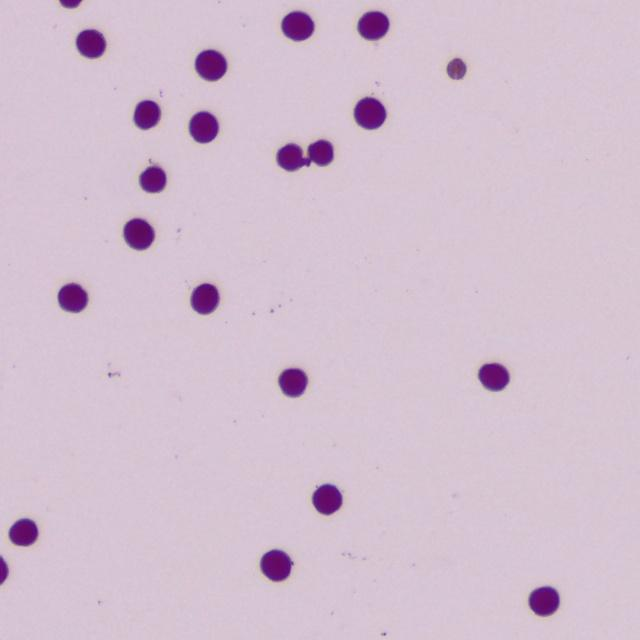viable: (261, 549, 292, 581), (123, 218, 154, 250), (355, 98, 385, 128), (195, 50, 226, 79), (529, 586, 559, 615), (312, 484, 341, 514), (189, 112, 218, 142), (76, 29, 105, 58), (58, 283, 87, 312), (358, 11, 388, 39), (191, 283, 219, 313), (478, 363, 509, 390), (282, 12, 313, 39), (279, 368, 307, 396), (9, 519, 38, 545), (277, 144, 305, 170), (134, 101, 160, 129), (140, 166, 165, 192), (308, 140, 332, 165), (447, 58, 466, 79), (0, 556, 8, 584), (60, 0, 81, 7)
